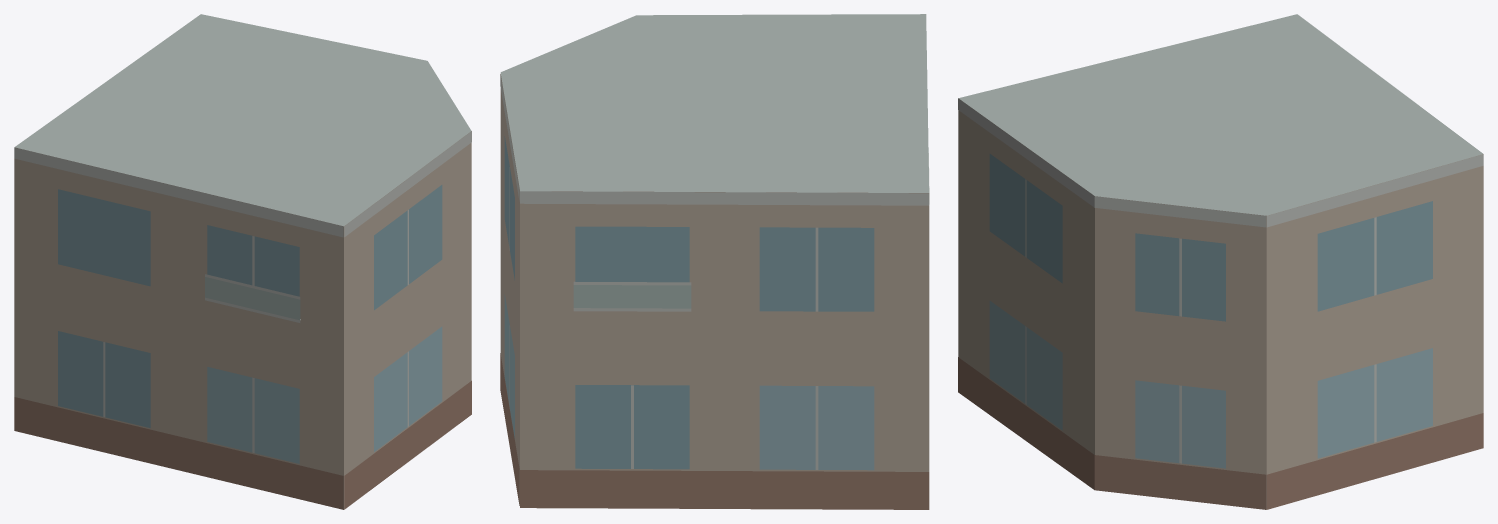
Rendered from survey-upis-32791886.glb.
3 renders of one model, left to right at view 1: azimuth 30°, elevation 25°; view 2: azimuth 150°, elevation 25°; view 3: azimuth 270°, elevation 25°, orthographic. The views are drawn at different scales.
Parts seen in each view (by area): view 1: survey-upis-32791886.tmp; view 2: survey-upis-32791886.tmp; view 3: survey-upis-32791886.tmp.
Boxes of the visible parts, bbox=[...] form: survey-upis-32791886.tmp: bbox=[14, 14, 471, 509]; survey-upis-32791886.tmp: bbox=[500, 14, 929, 509]; survey-upis-32791886.tmp: bbox=[958, 14, 1483, 509].
Size of the model in its own units: 8.99 by 6.1 by 9.89.
